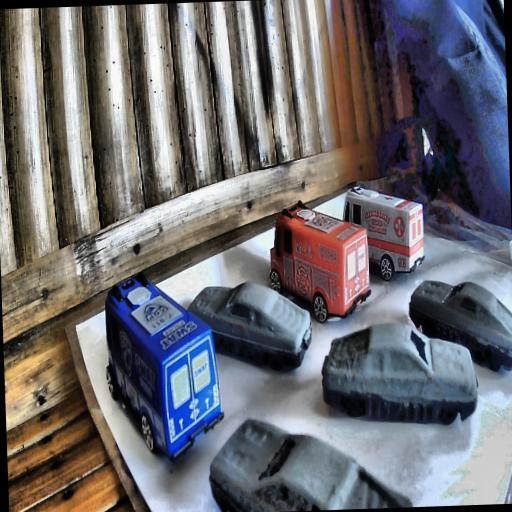ambulance: (342, 182, 424, 280)
fire_truck: (265, 196, 370, 324)
normal_car: (209, 412, 407, 512), (319, 320, 476, 430), (190, 278, 310, 376), (407, 276, 512, 375)
police car: (102, 264, 228, 458)
